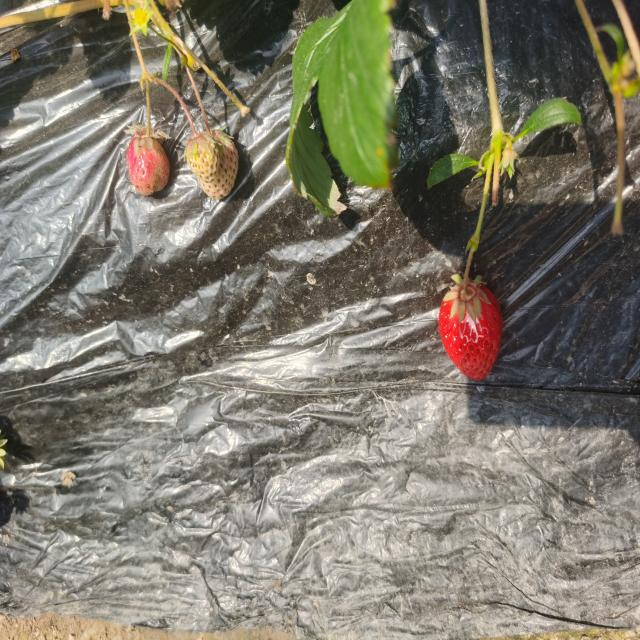stem: (464, 233, 480, 299), (146, 95, 150, 138)
strawberry: (439, 280, 504, 381), (126, 132, 170, 195)
